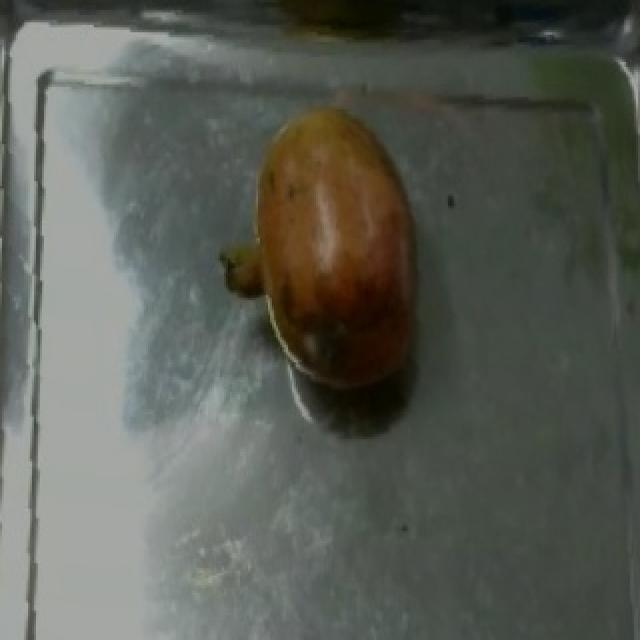fruit: (206, 104, 446, 417)
